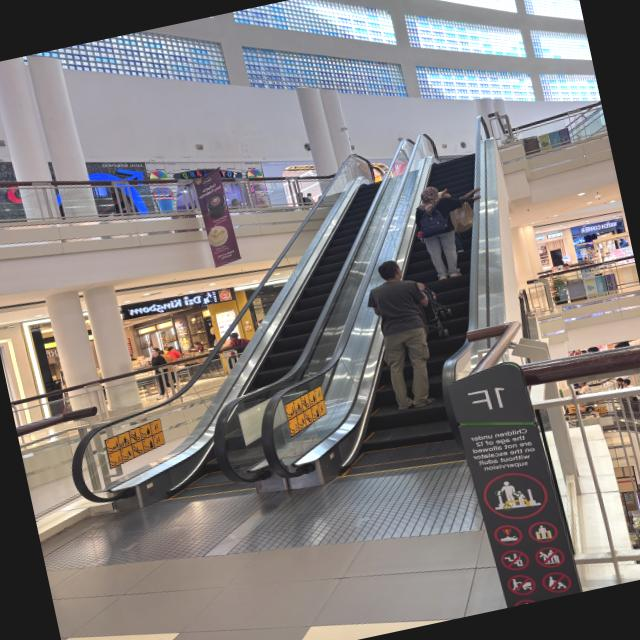escalator: (42, 129, 411, 586), (226, 112, 509, 565)
